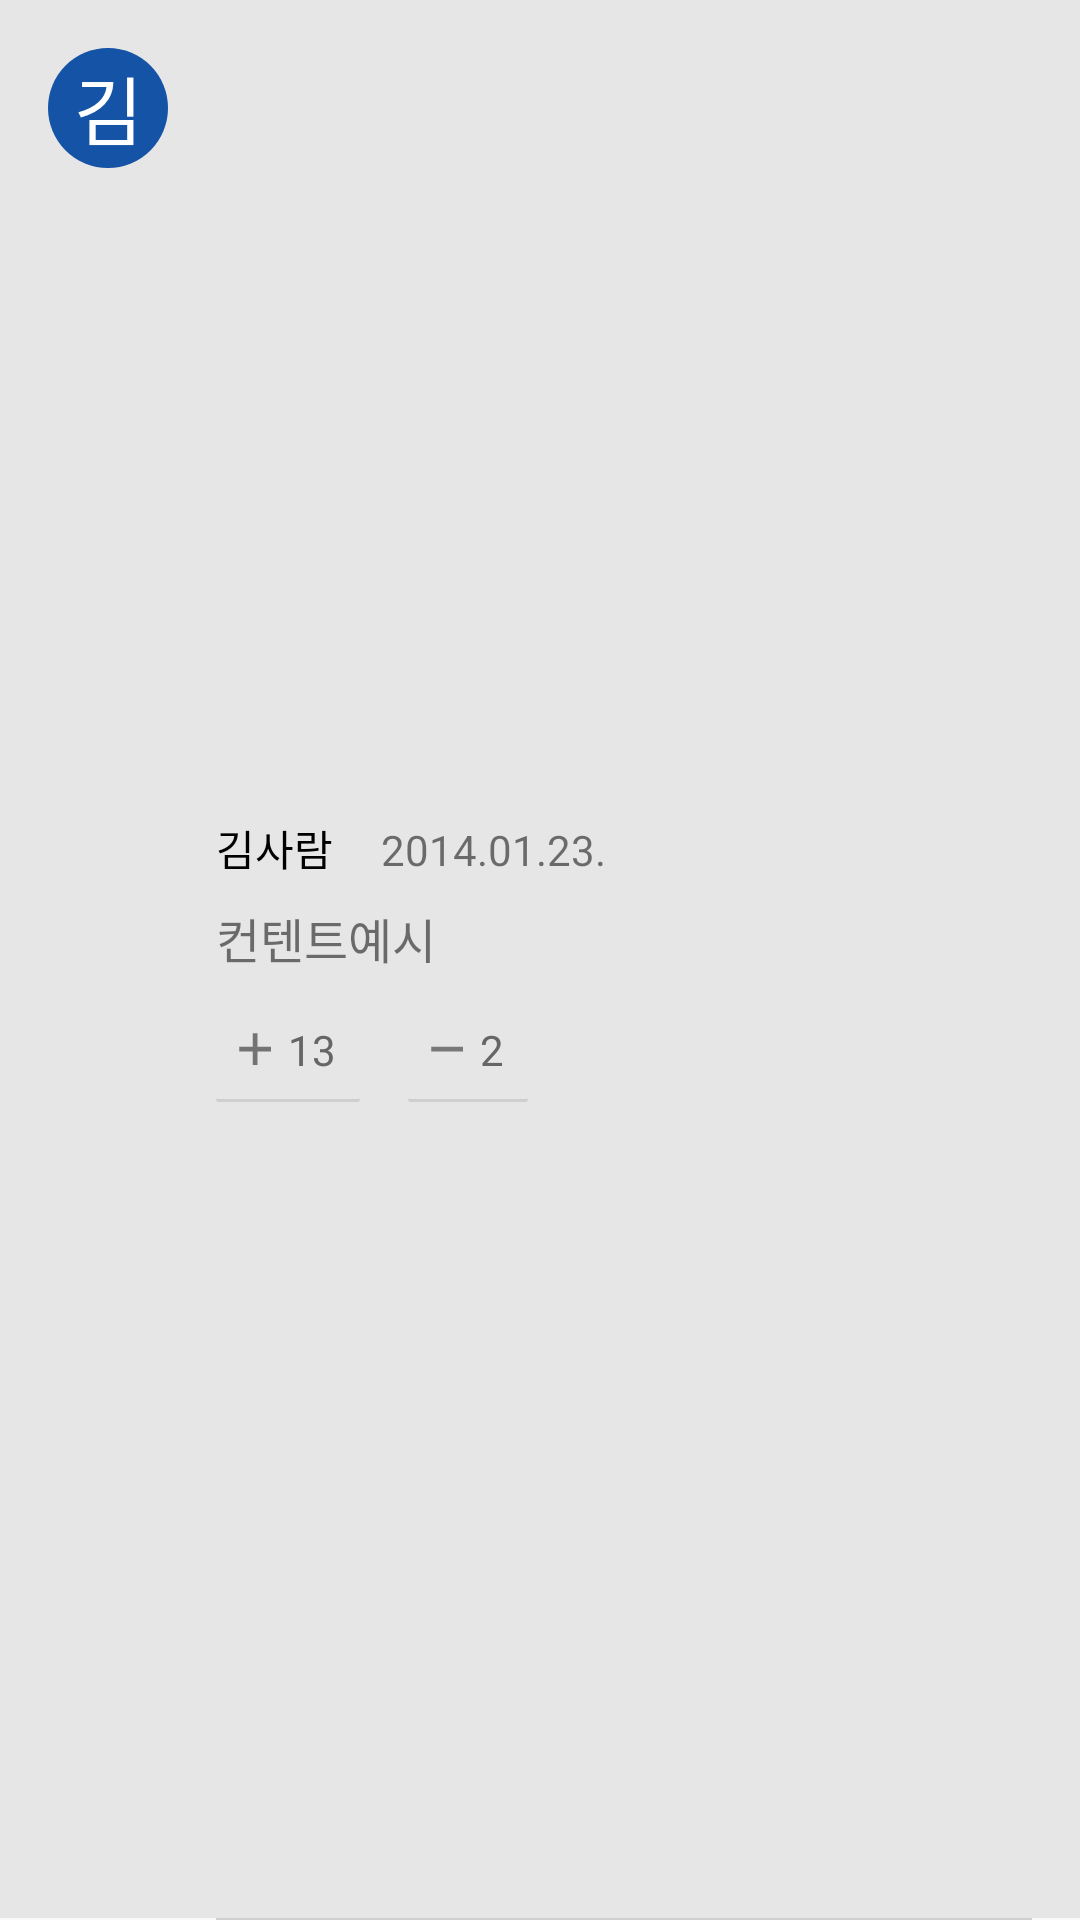

Icon bounding boxes for this 1080w x 1920h phone screenshot, format (x1, y1, x2, y2):
board minus: (431, 1046, 463, 1052)
board plus: (239, 1033, 271, 1065)
